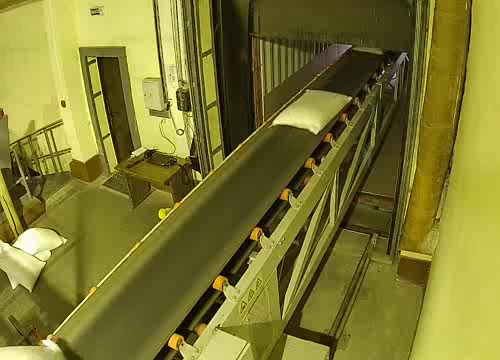bag: (270, 87, 356, 137), (0, 335, 73, 360), (351, 45, 386, 58)
